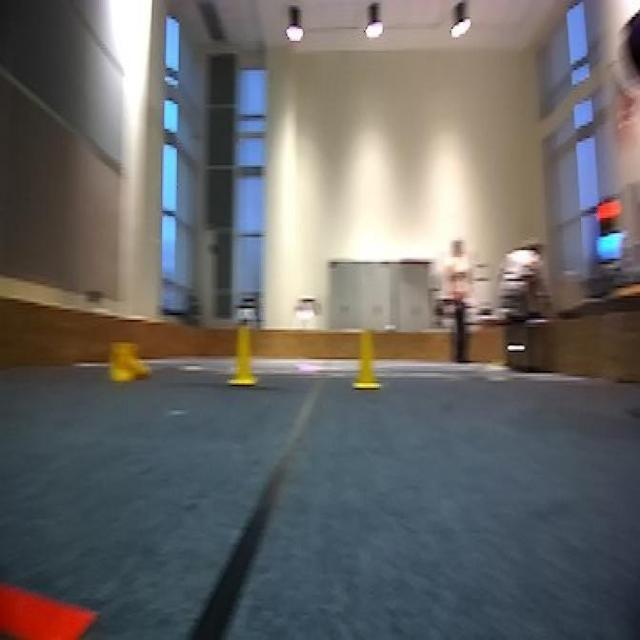frc_cone: (110, 337, 154, 385), (229, 322, 258, 388), (352, 328, 381, 392)
